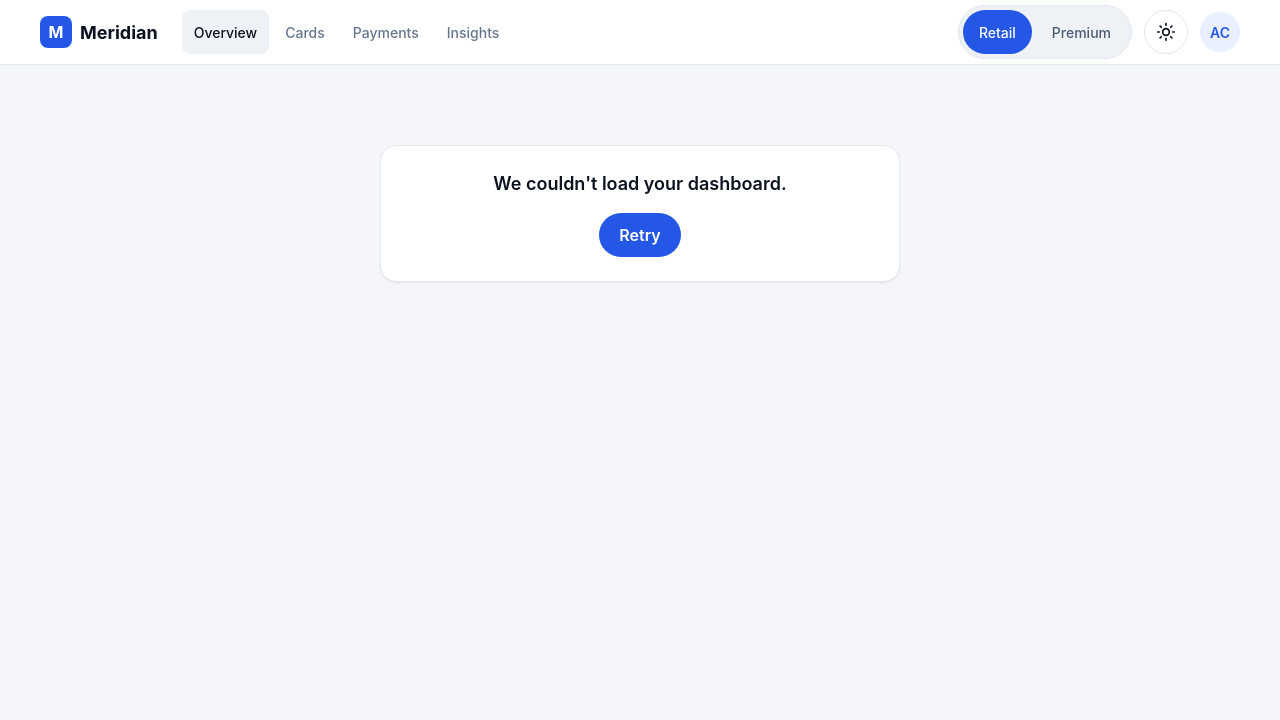
dashboard › shows an error when loading fails and loads the dashboard on Retry
The image size is (1280, 720).
Expected: the text "We couldn't load your dashboard." is shown, [493, 170, 787, 197]
Click the button "Retry". click: (640, 235)
box: [599, 213, 681, 257]
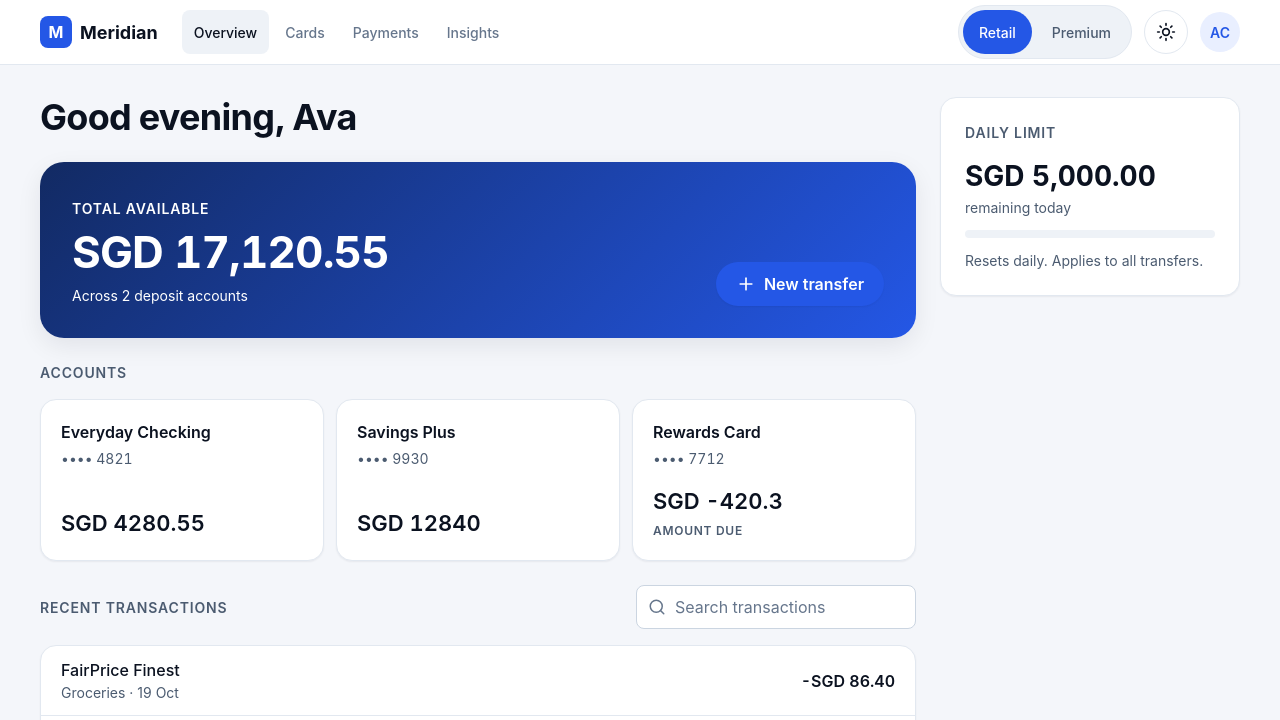
Expected: the text "We couldn't load your dashboard." is gone
